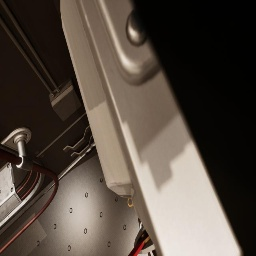SafetySwitchPanel ,: (60, 0, 240, 256)
